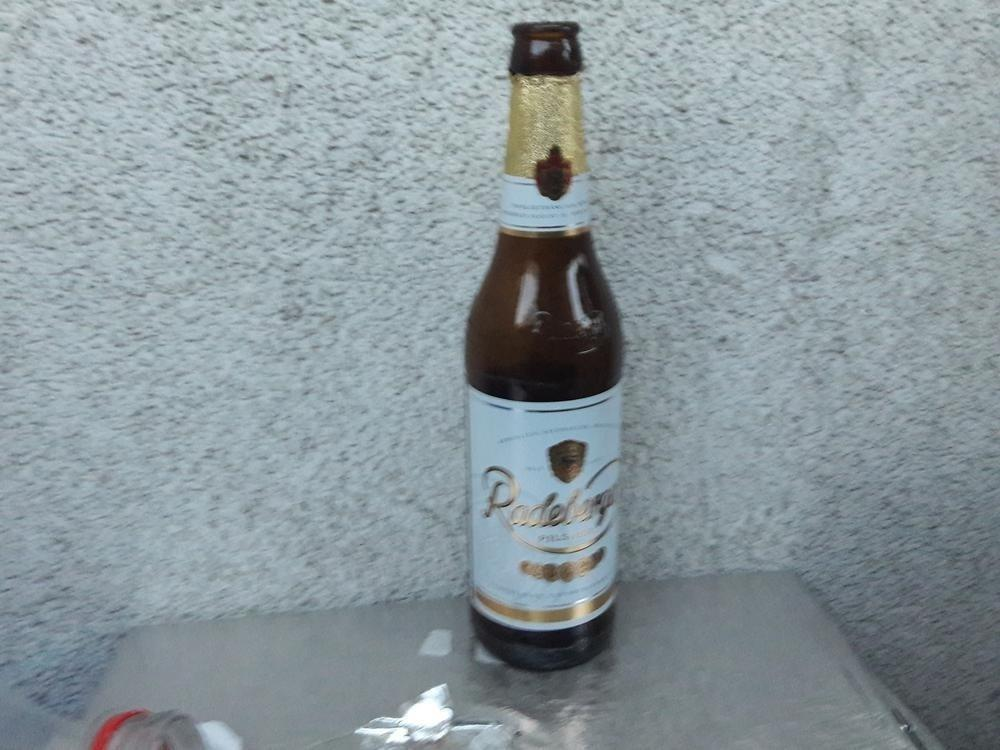bottle-glass: (463, 20, 626, 674)
